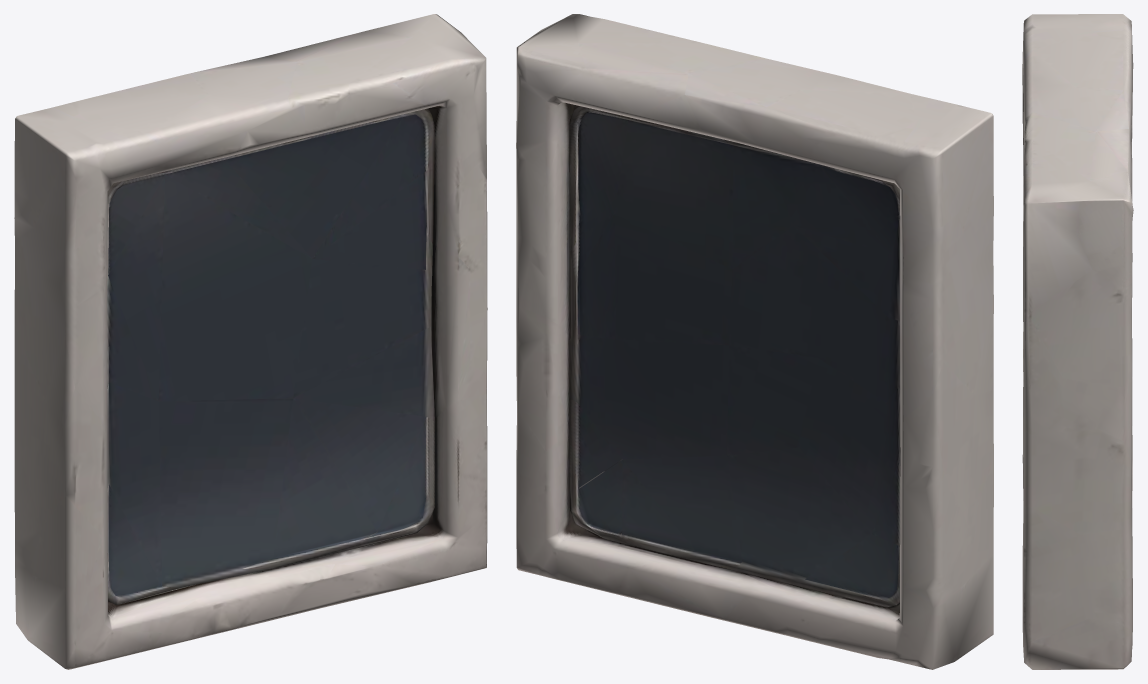
The model's file is pane.glb.
The picture shows the model from 3 angles, left to right: view 1: azimuth 30°, elevation 25°; view 2: azimuth 150°, elevation 25°; view 3: azimuth 270°, elevation 25°; orthographic projection. The views are drawn at different scales.
Visible parts, largest first — view 1: tripo_node_ec86f2de-11e1-4d68-b41e-cdaccbe20cec; view 2: tripo_node_ec86f2de-11e1-4d68-b41e-cdaccbe20cec; view 3: tripo_node_ec86f2de-11e1-4d68-b41e-cdaccbe20cec.
Part boxes in pixels (left/top/right/bottom): tripo_node_ec86f2de-11e1-4d68-b41e-cdaccbe20cec: left=14, top=14, right=487, bottom=669; tripo_node_ec86f2de-11e1-4d68-b41e-cdaccbe20cec: left=516, top=14, right=993, bottom=669; tripo_node_ec86f2de-11e1-4d68-b41e-cdaccbe20cec: left=1022, top=14, right=1133, bottom=669.
Bounding box in the file's own units: 1.2 × 1.4 × 0.2999.
1 material, 1 textured.
